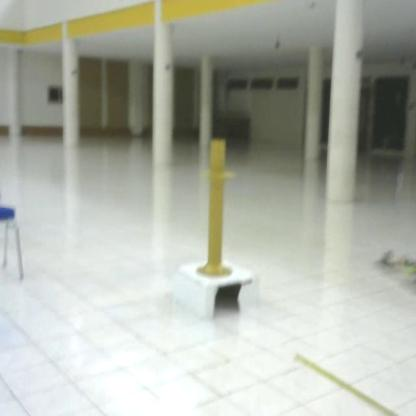pole: (191, 140, 242, 282)
